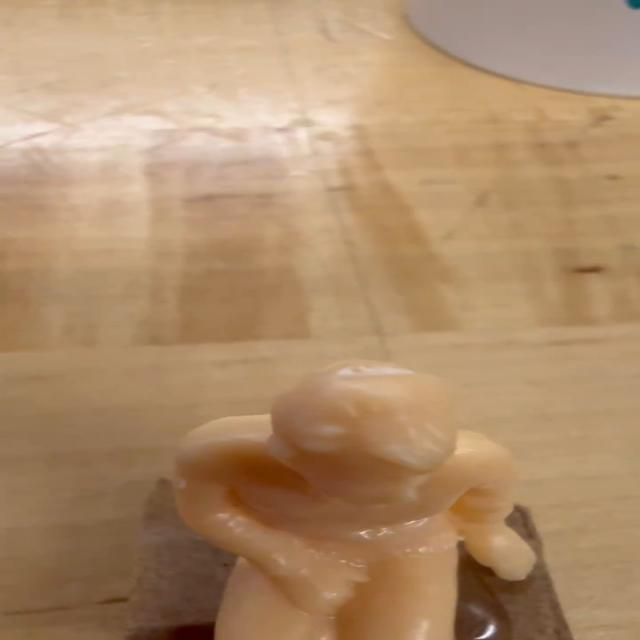Unauthorized: (98, 330, 525, 640)
